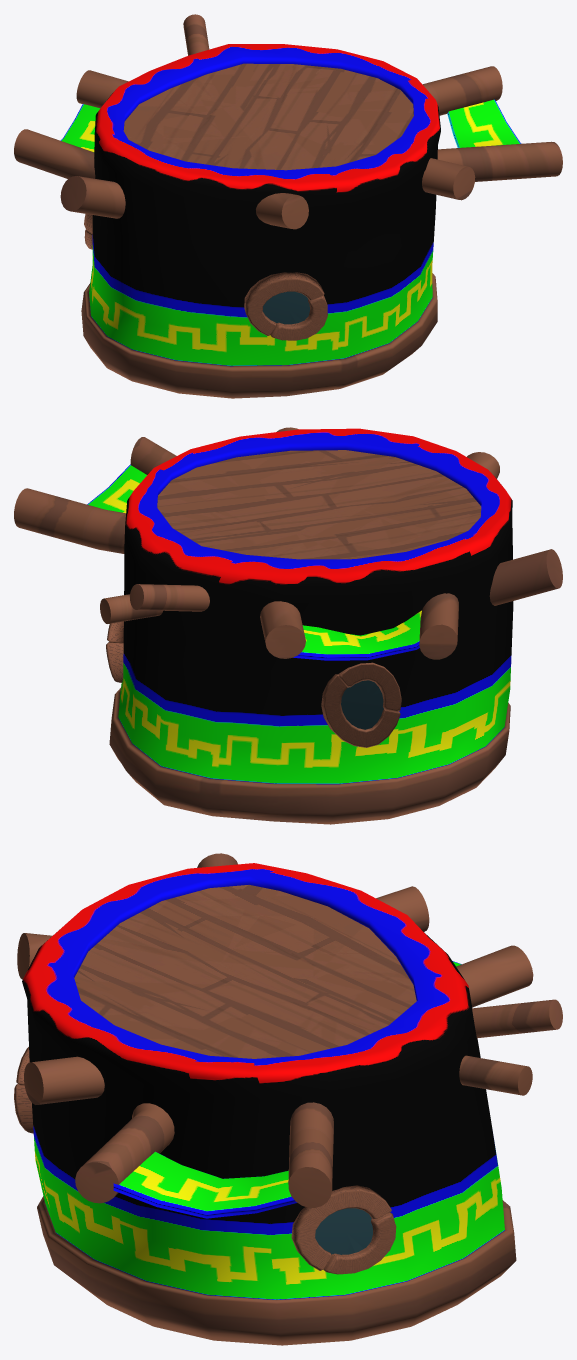
The model's file is aanggnag_home_02.fbx.
3 renders of one model, top to bottom at view 1: azimuth 30°, elevation 25°; view 2: azimuth 150°, elevation 25°; view 3: azimuth 270°, elevation 25°, orthographic. The views are drawn at different scales.
Visible parts, largest first — view 1: aanggnag_home_02; view 2: aanggnag_home_02; view 3: aanggnag_home_02.
Boxes of the visible parts, box(x1,y1,x2,y2) form: aanggnag_home_02: box(14, 14, 562, 398); aanggnag_home_02: box(14, 427, 562, 824); aanggnag_home_02: box(14, 853, 562, 1345).
Bounding box in the file's own units: 527 × 252 × 426.
Materials: 3 (2 with a texture image).
